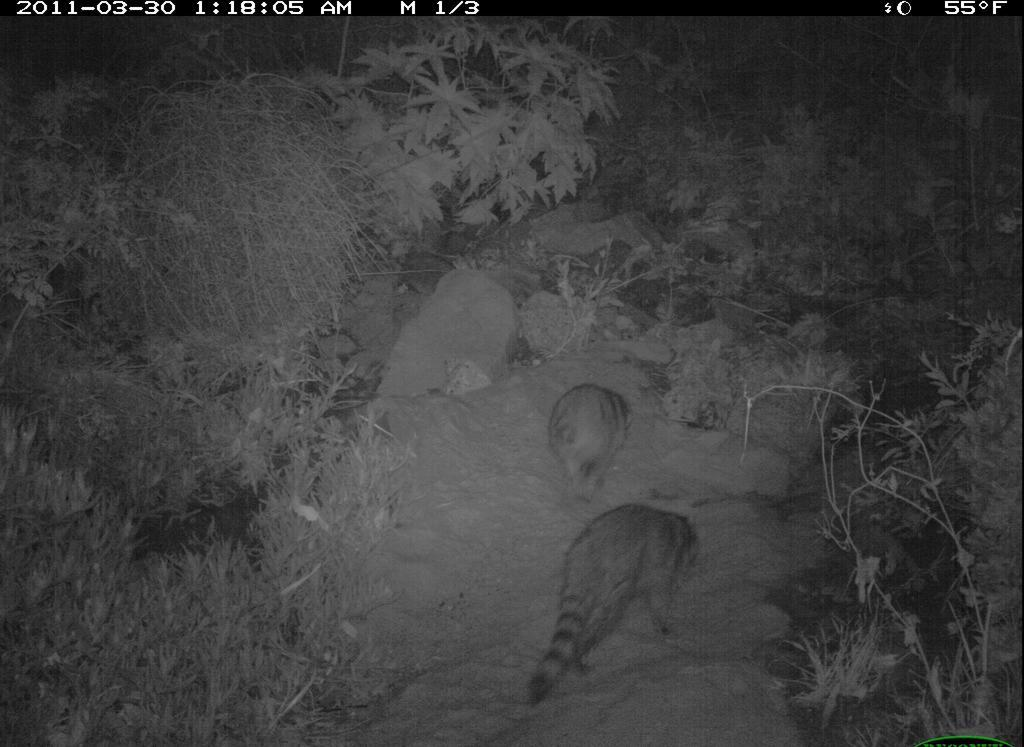raccoon: (525, 501, 710, 708), (542, 376, 642, 495)
